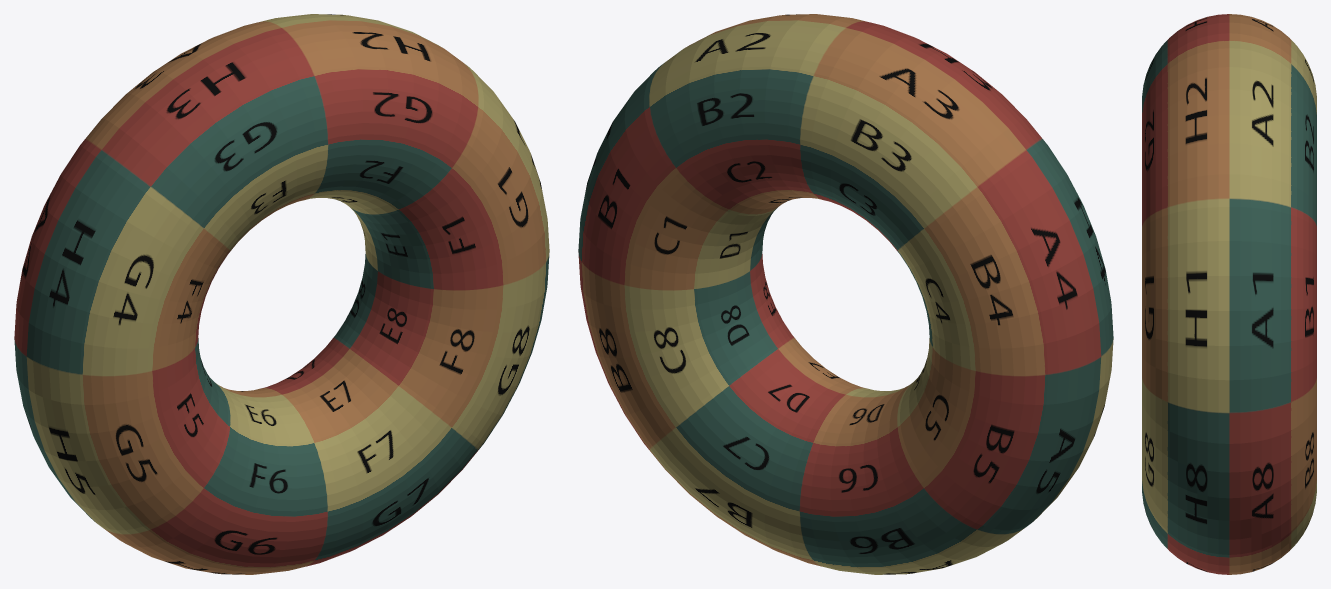
File: texture_torus_R11_r22.glb
3 views of the same model, side by side, from view 1: azimuth 30°, elevation 25°; view 2: azimuth 150°, elevation 25°; view 3: azimuth 270°, elevation 25° (orthographic). The views are drawn at different scales.
Visible parts, largest first — view 1: world; view 2: world; view 3: world.
Boxes of the visible parts, x1,y1,x2,y2 form: world: (14,14,549,574); world: (578,14,1113,574); world: (1142,14,1316,574).
Bounding box in the file's own units: 25.2 × 25.15 × 7.85.
1 material, 1 textured.
